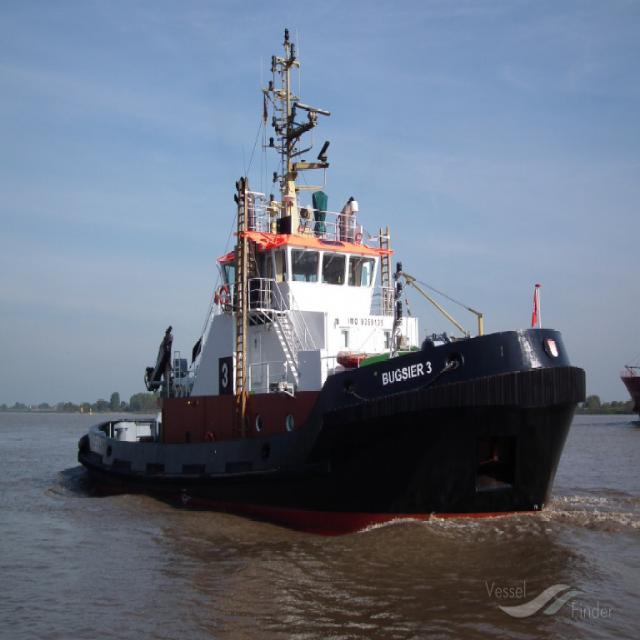tugboat: (82, 209, 580, 511)
